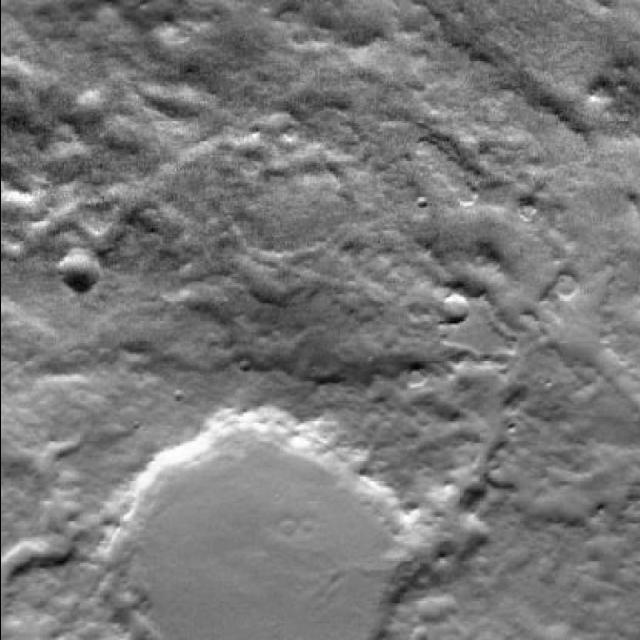crater: (102, 412, 406, 640), (57, 252, 97, 294), (430, 289, 464, 323)
